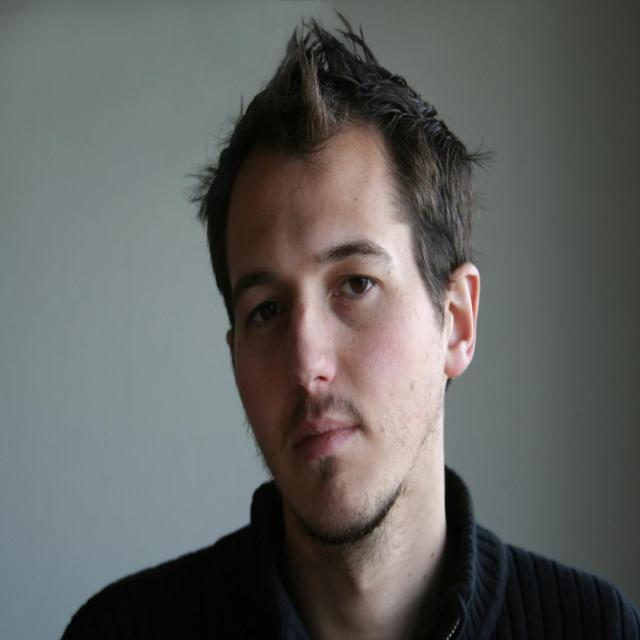no-glass: (247, 272, 386, 331)
